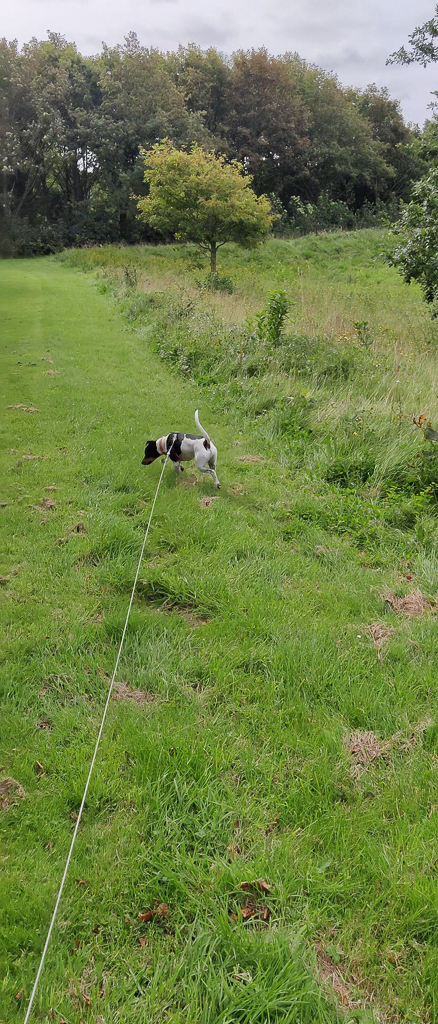Dog: (137, 405, 231, 495)
